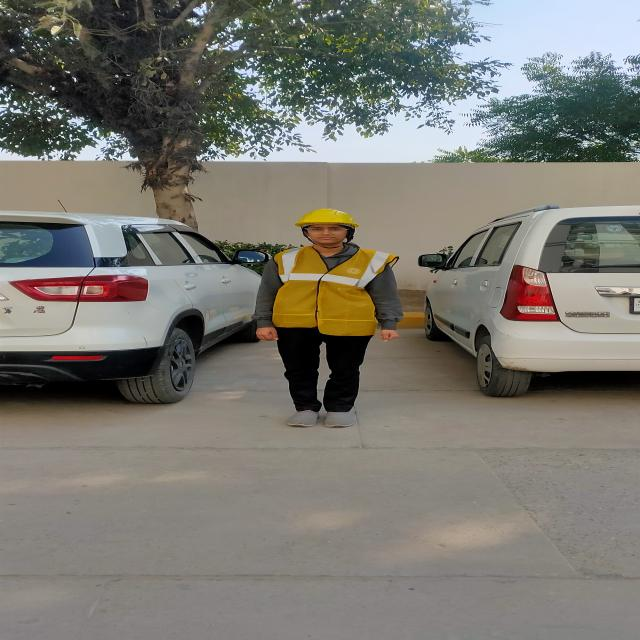safe: (255, 208, 399, 428)
